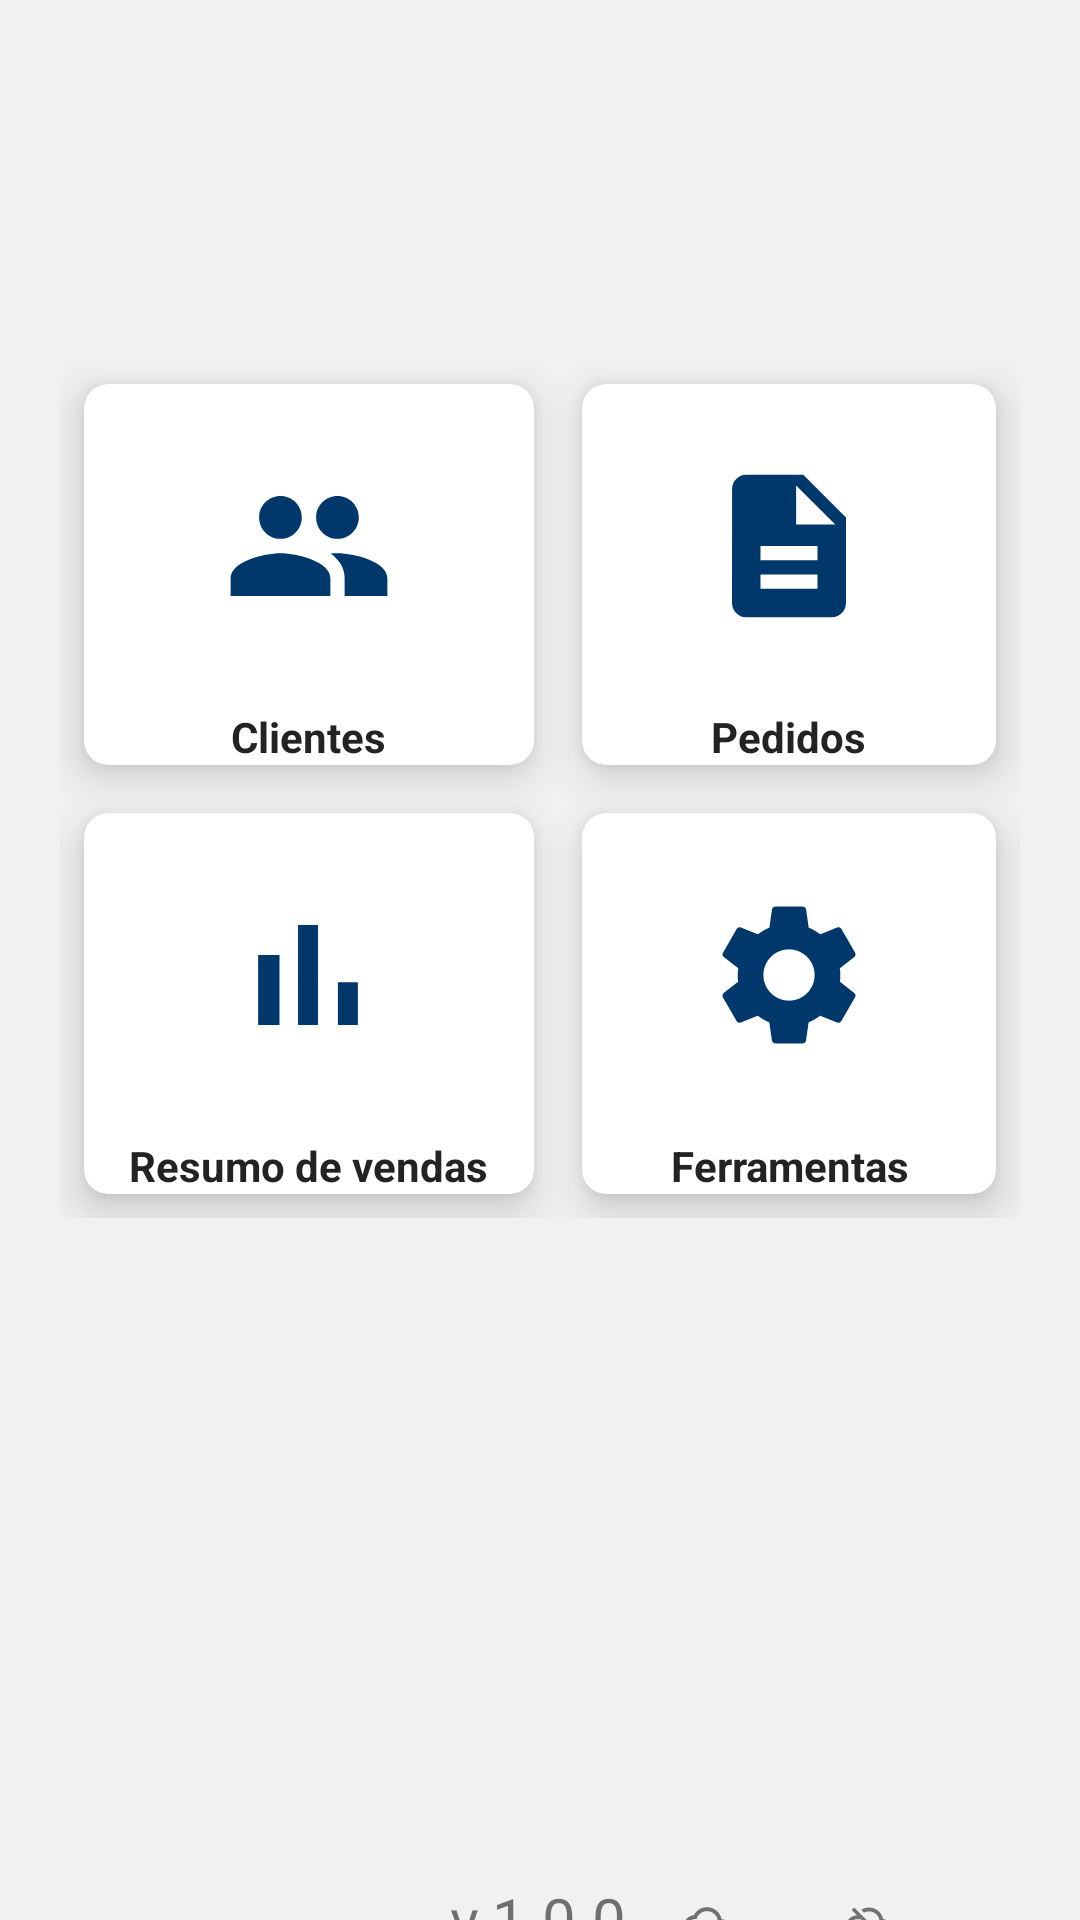

Where icons sit on this 1080px×1920px app screen, as (x1, y1, x2, y2):
botao cliente: (230, 496, 388, 596)
botao resumo vendas: (258, 925, 358, 1025)
